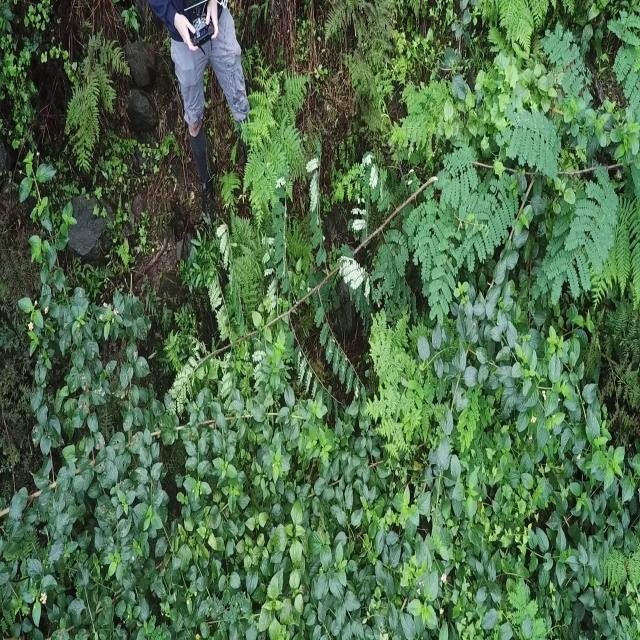Mysore-Thorn-Weed: (118, 148, 400, 448), (416, 17, 640, 311)
